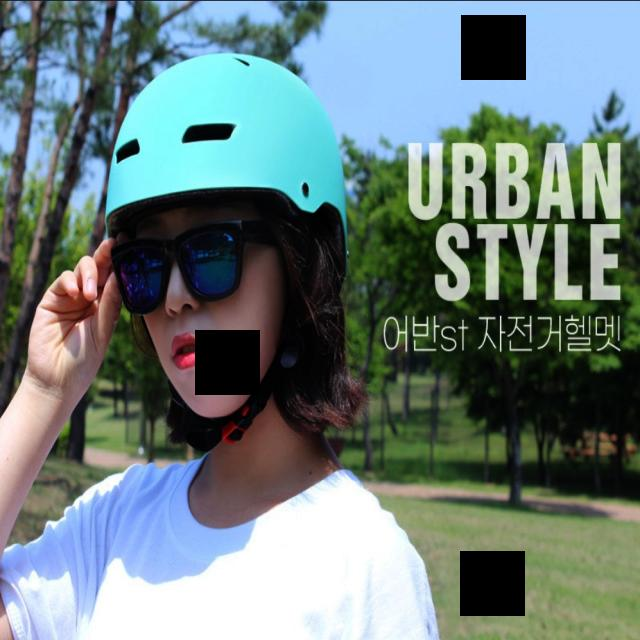Helmet: (105, 52, 348, 422)
